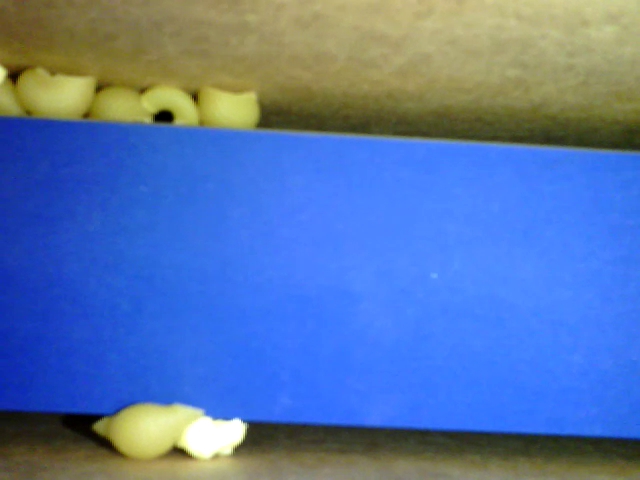elbow: (145, 83, 201, 124)
shell: (89, 400, 206, 458), (15, 64, 95, 118), (199, 80, 263, 132), (89, 86, 153, 125)
